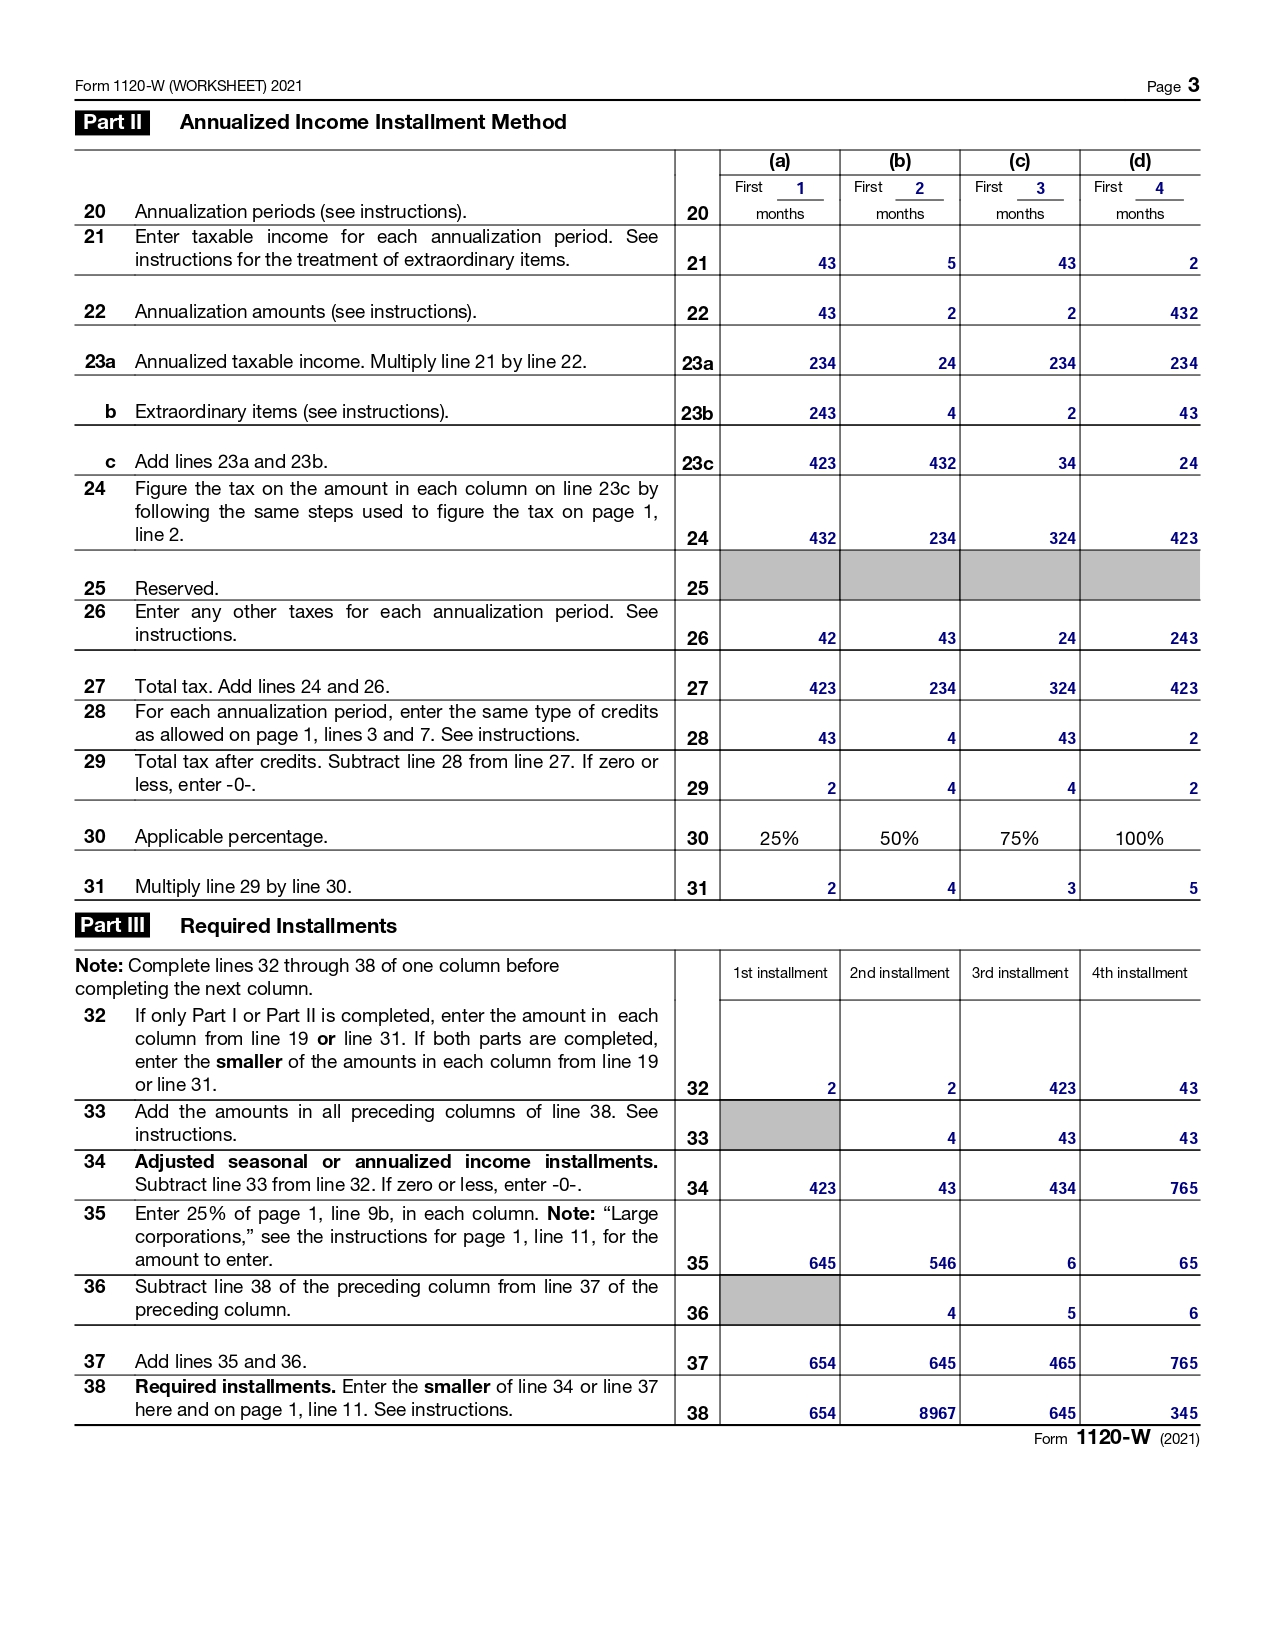table: (71, 143, 1217, 907), (64, 946, 1221, 1426)
